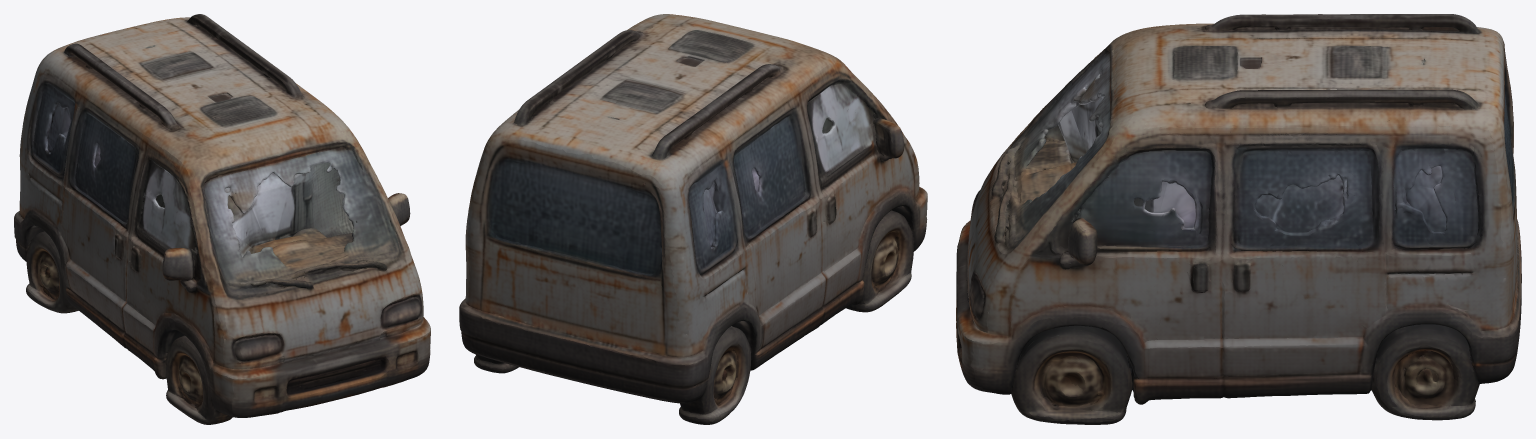
The model's file is van.glb.
3 views of the same model, side by side, from view 1: azimuth 30°, elevation 25°; view 2: azimuth 150°, elevation 25°; view 3: azimuth 270°, elevation 25° (orthographic). The views are drawn at different scales.
Visible parts, largest first — view 1: world; view 2: world; view 3: world.
Boxes of the visible parts, x1=… form: world: x1=14, y1=14, x2=430, y2=424; world: x1=459, y1=14, x2=927, y2=424; world: x1=956, y1=14, x2=1521, y2=424.
Size of the model in its own units: 3.4 by 3.26 by 5.42.
Materials: 1 (1 with a texture image).
